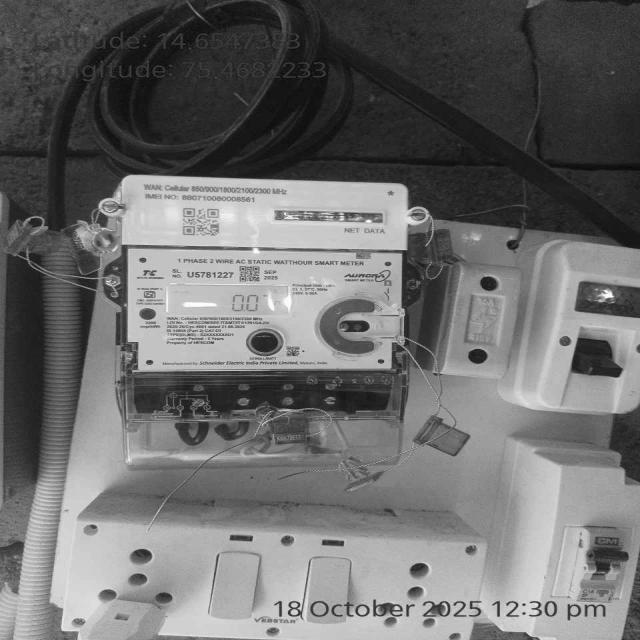meter: (118, 172, 404, 374)
